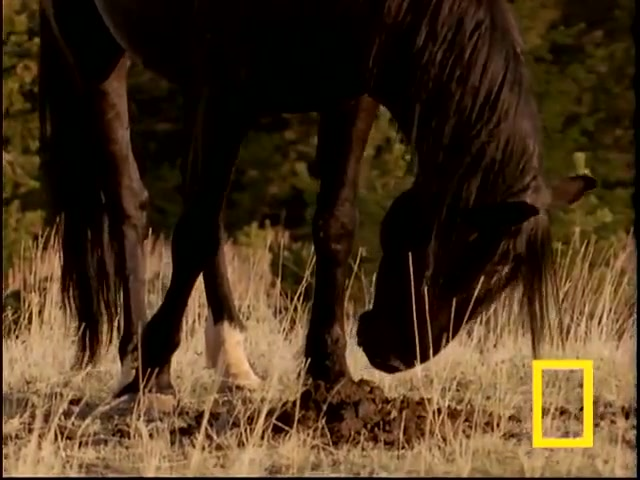horse: (38, 2, 568, 412)
